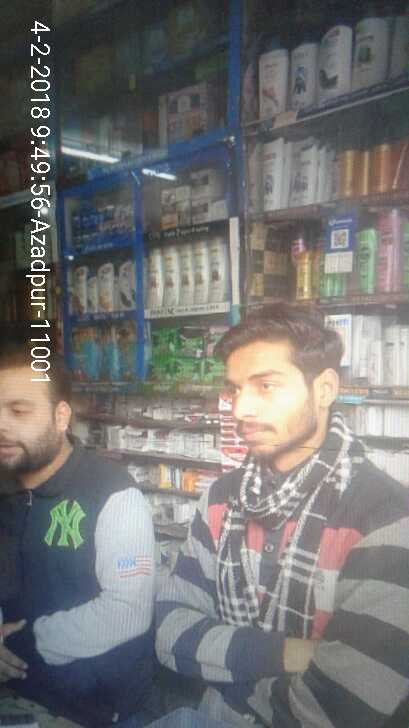vicks: (68, 199, 139, 234)
